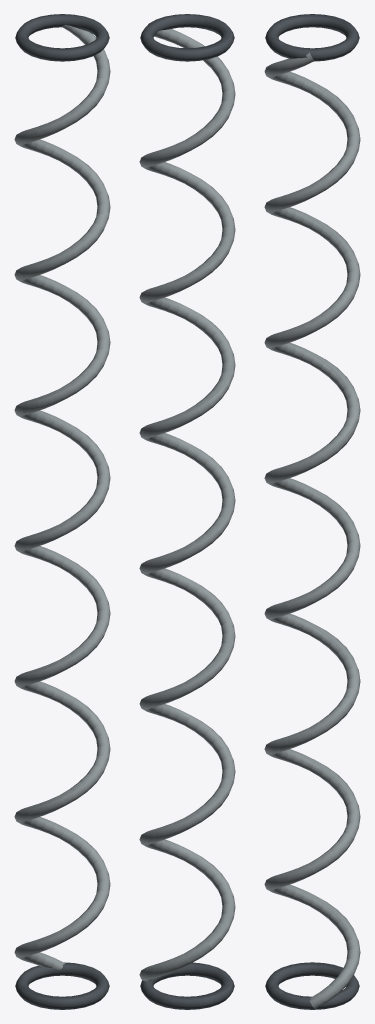
File: accel_spring_upper.fbx
3 renders of one model, left to right at view 1: azimuth 90°, elevation 25°; view 2: azimuth 150°, elevation 25°; view 3: azimuth 270°, elevation 25°, orthographic.
Parts seen in each view (by area): view 1: SM_accel_spring_upper; view 2: SM_accel_spring_upper; view 3: SM_accel_spring_upper.
Part boxes in pixels (x1,y1,x2,y2): SM_accel_spring_upper: (14,14,110,1009); SM_accel_spring_upper: (139,14,235,1009); SM_accel_spring_upper: (264,14,360,1009).
Size of the model in its own units: 0.0213 by 0.2346 by 0.0213.
2 materials, 2 textured.
